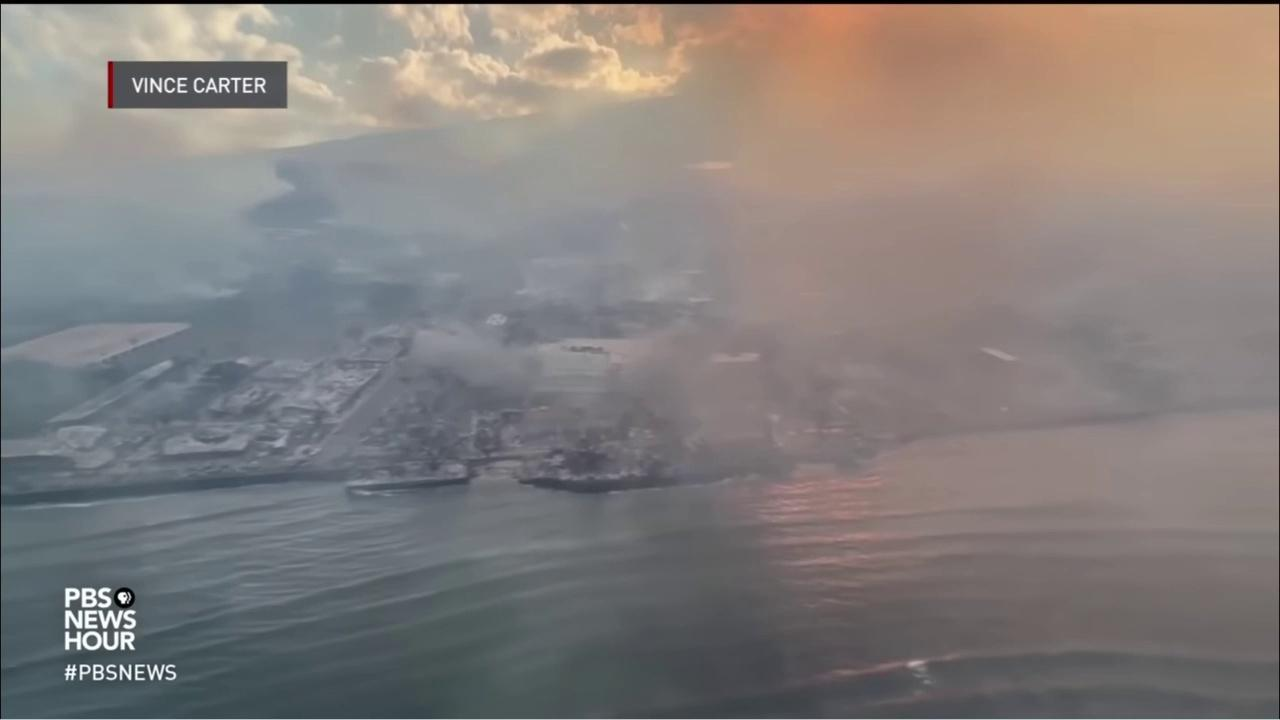smoke: (325, 4, 1280, 486), (0, 109, 297, 309)
